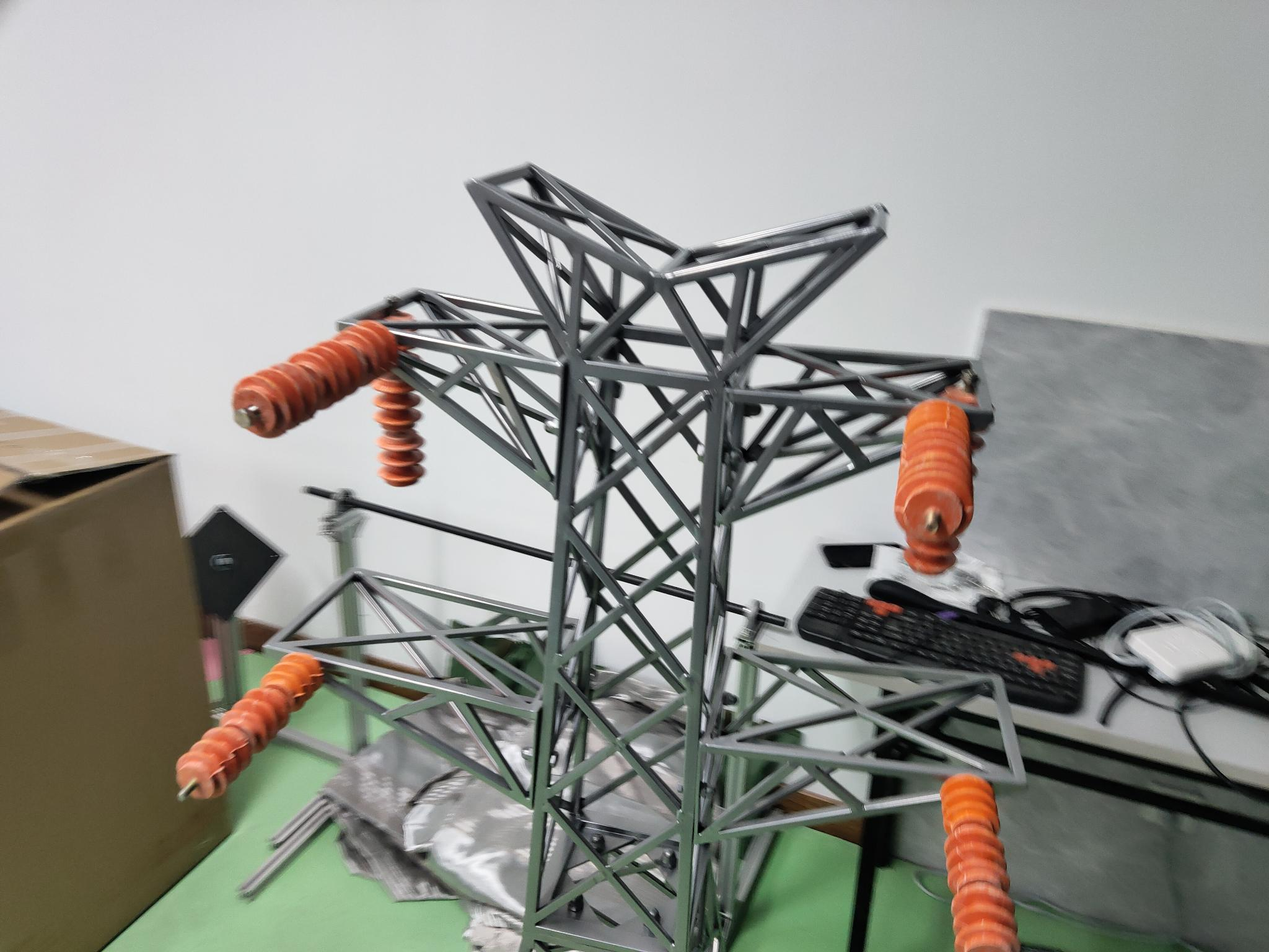tower: (264, 163, 1033, 952)
